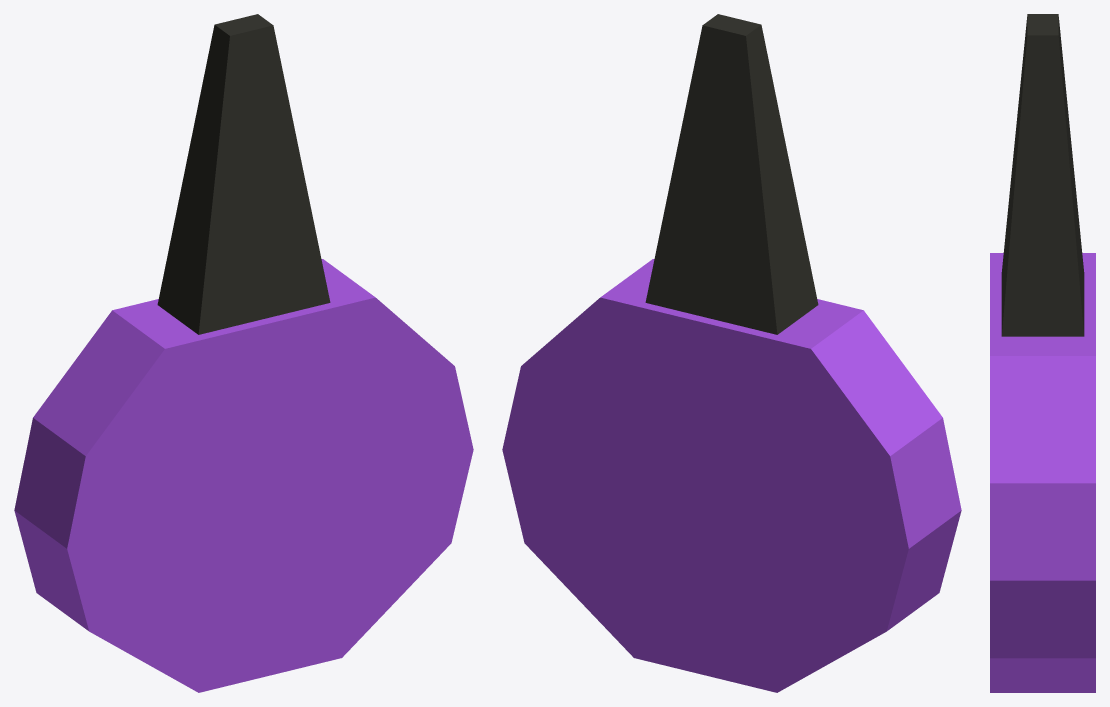
File: nail paint 1.fbx
3 views of the same model, side by side, from view 1: azimuth 30°, elevation 25°; view 2: azimuth 150°, elevation 25°; view 3: azimuth 270°, elevation 25° (orthographic).
Visible parts, largest first — view 1: nail paint 1; view 2: nail paint 1; view 3: nail paint 1.
Boxes of the visible parts, bbox=[...] form: nail paint 1: bbox=[14, 14, 473, 692]; nail paint 1: bbox=[502, 14, 961, 692]; nail paint 1: bbox=[990, 14, 1095, 692].
Size of the model in its own units: 0.2114 by 0.3137 by 0.0476.
